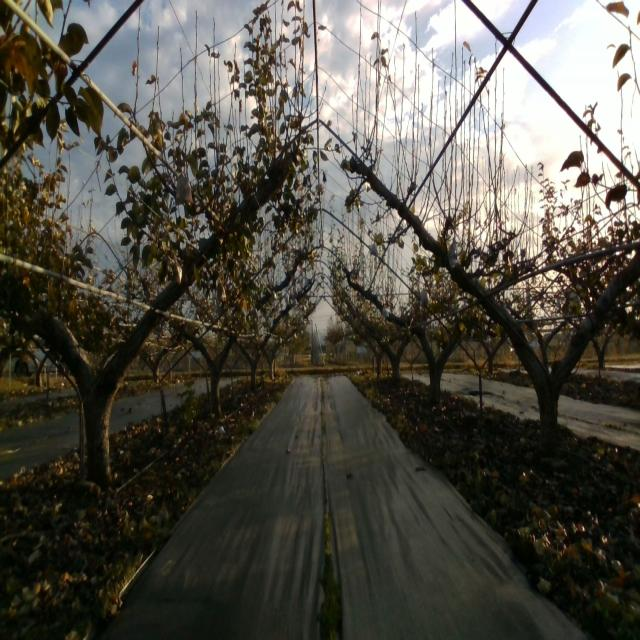pearbags: (174, 164, 194, 206), (447, 237, 458, 269)
